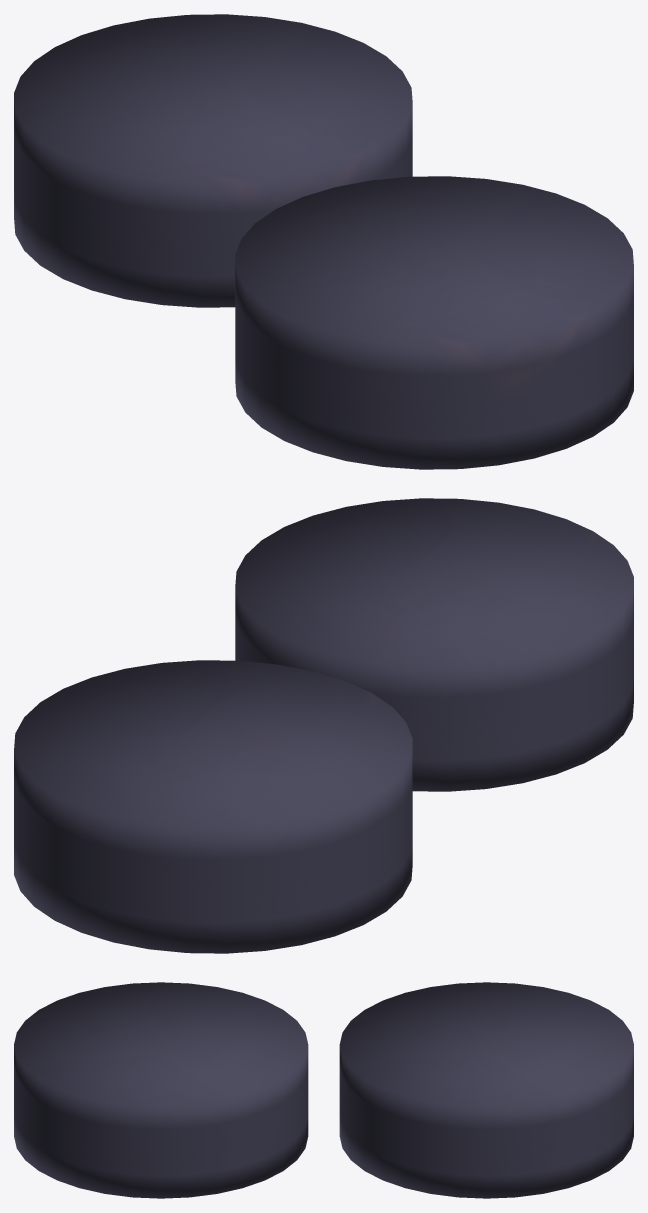
Rendered from connectors.fbx.
3 views of the same model, one above another, from view 1: azimuth 30°, elevation 25°; view 2: azimuth 150°, elevation 25°; view 3: azimuth 270°, elevation 25° (orthographic). The views are drawn at different scales.
Parts seen in each view (by area): view 1: Connector_1, Connector; view 2: Connector, Connector_1; view 3: Connector, Connector_1.
Part boxes in pixels (x1,y1,x2,y2): Connector_1: [235, 176, 633, 469]; Connector: [14, 14, 412, 307]; Connector: [14, 660, 412, 953]; Connector_1: [235, 498, 633, 791]; Connector: [339, 982, 633, 1198]; Connector_1: [14, 982, 308, 1198].
Bounding box in the file's own units: 3.26 × 1.12 × 6.86.
